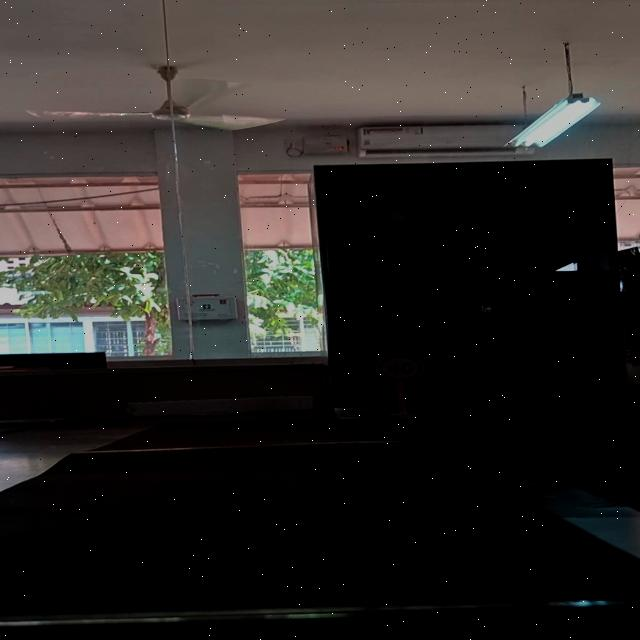Speed40: (374, 352, 426, 382)
